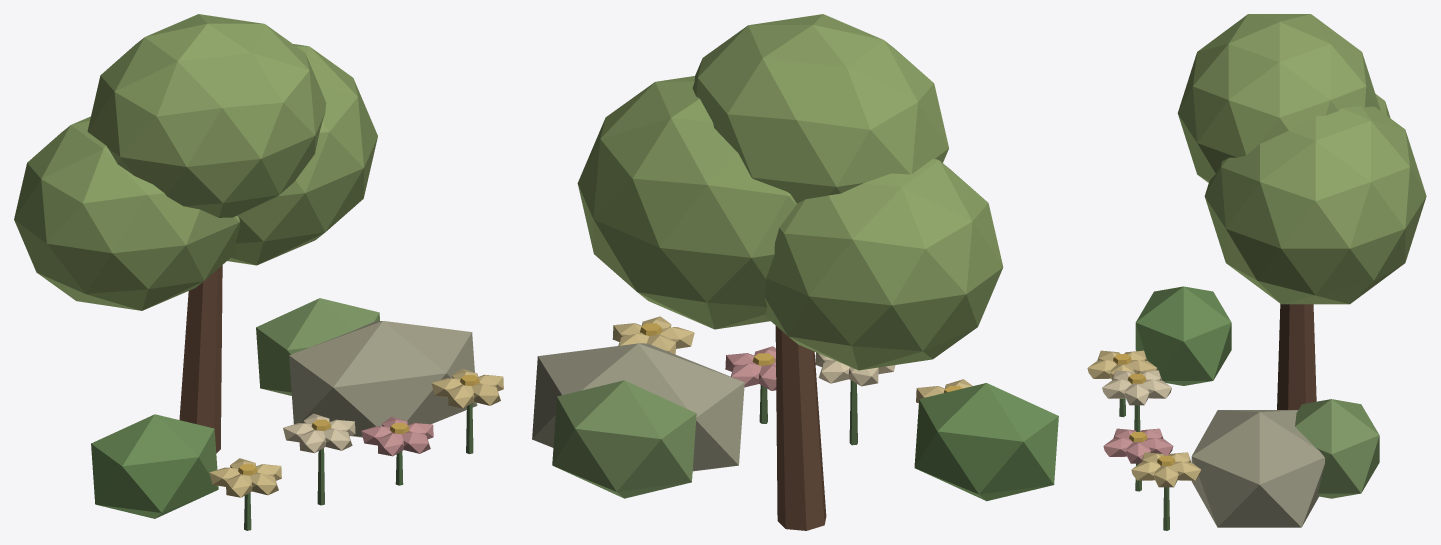
The model's file is xingyin-environment-v2__meadow_flower_island.glb.
The picture shows the model from 3 angles, left to right: view 1: azimuth 30°, elevation 25°; view 2: azimuth 150°, elevation 25°; view 3: azimuth 270°, elevation 25°; orthographic projection. The views are drawn at different scales.
Parts seen in each view (by area): view 1: meadow_flower_island; view 2: meadow_flower_island; view 3: meadow_flower_island.
Part boxes in pixels (x1=…): meadow_flower_island: x1=14, y1=14, x2=503, y2=530; meadow_flower_island: x1=532, y1=14, x2=1058, y2=530; meadow_flower_island: x1=1087, y1=14, x2=1426, y2=530.
Size of the model in its own units: 3.45 by 3.54 by 2.55.
